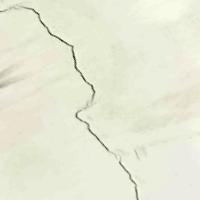crack: (0, 3, 148, 198)
